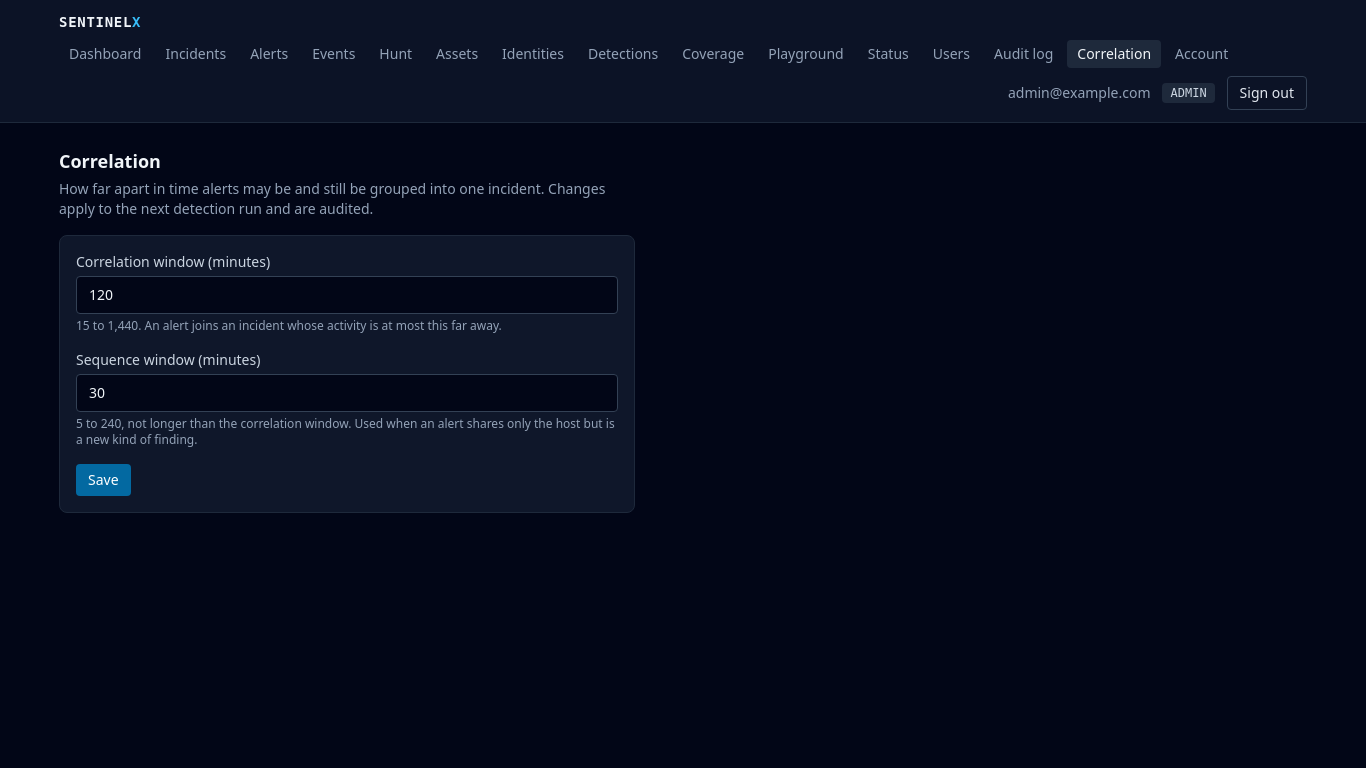
Test: Escalation and settings › lets admins change the correlation windows and shows refusals
Replace the text in the number field labelled "Correlation window (minutes)" with "20" at [347, 295], box [76, 276, 618, 314]
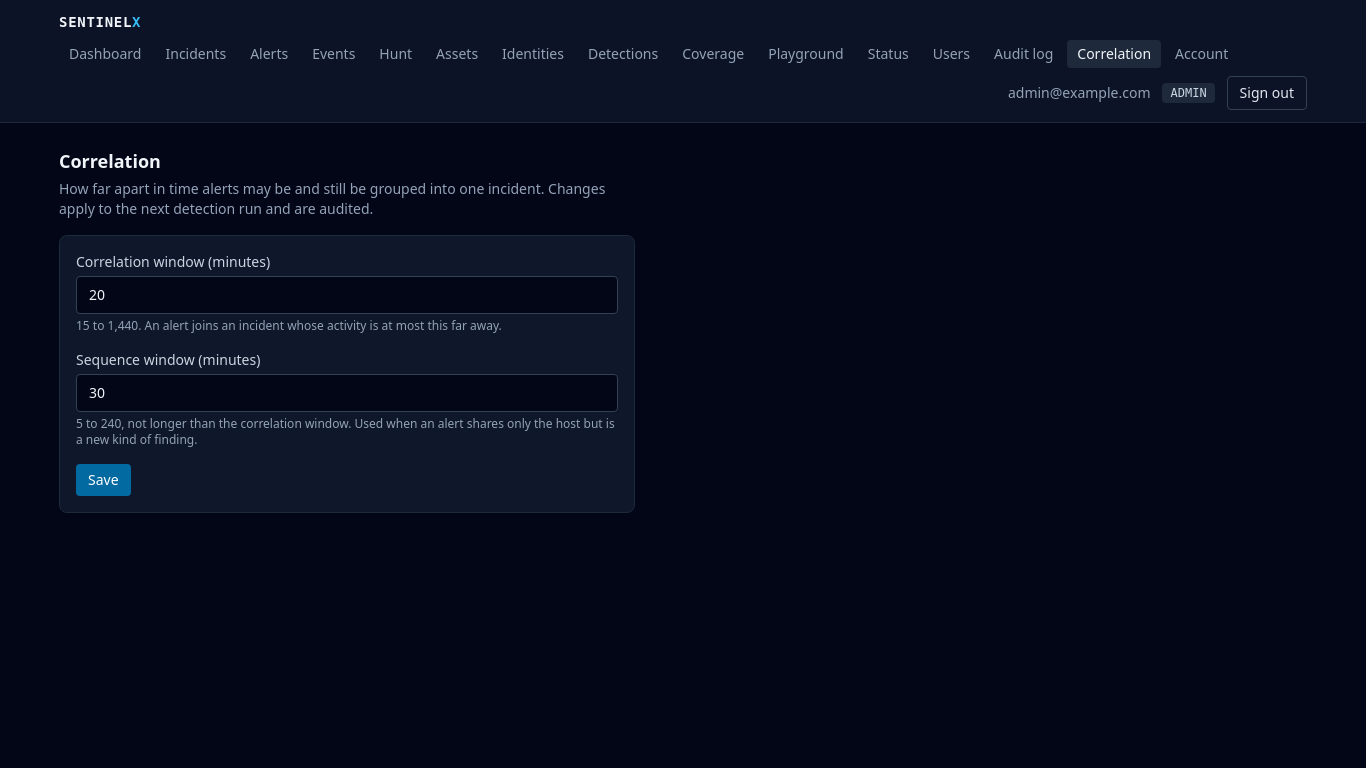
Click the button "Save" at [103, 480], box [76, 464, 131, 496]
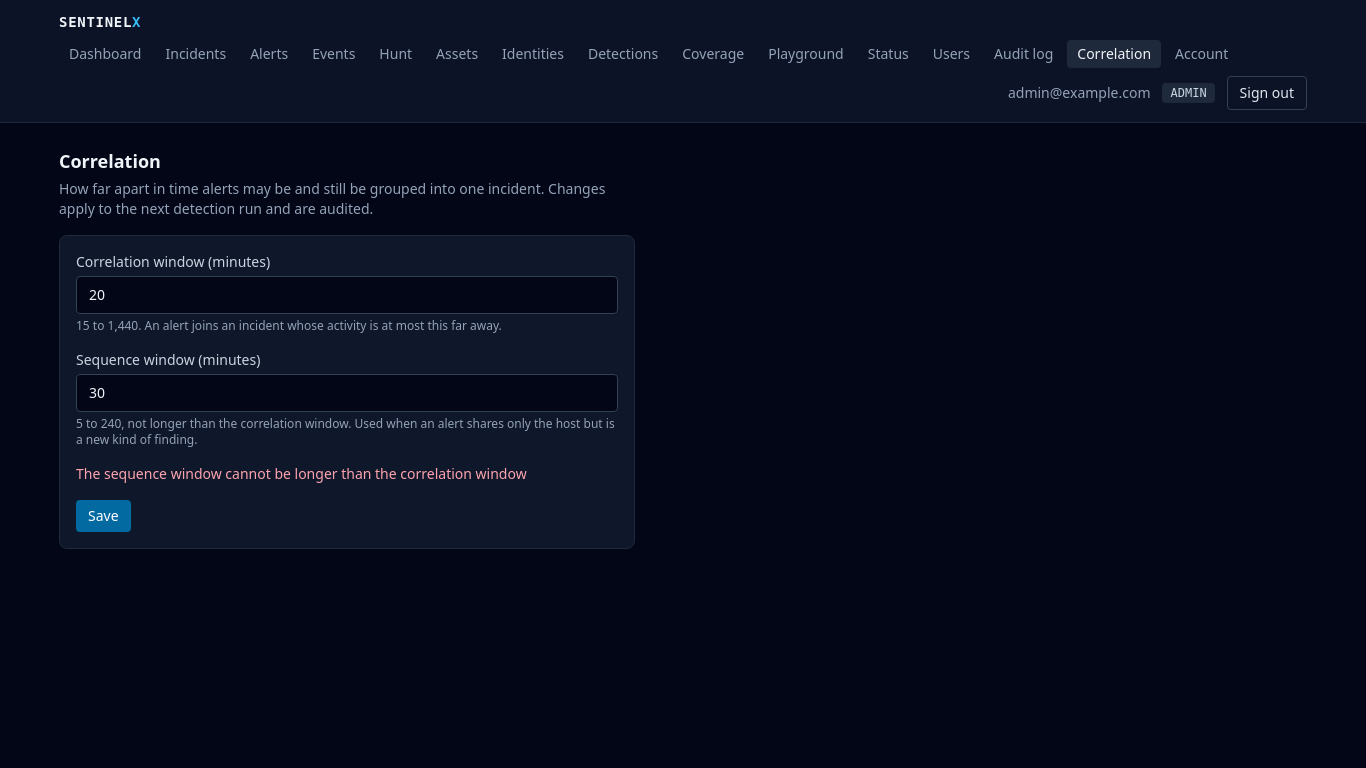
Expected: the text "The sequence window cannot be longer than the correlation window" is shown, [76, 464, 527, 483]
